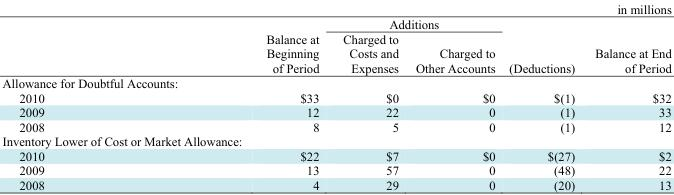table: (1, 1, 670, 191)
table column: (154, 1, 330, 191), (1, 1, 154, 191), (406, 1, 501, 191), (584, 1, 670, 191), (501, 1, 584, 191), (330, 1, 406, 191)
table column header: (1, 1, 670, 75)
table projected row header: (1, 75, 670, 90), (1, 133, 670, 148)
table row: (1, 31, 670, 75), (1, 1, 670, 31), (1, 75, 670, 90), (1, 104, 670, 119), (1, 133, 670, 148), (1, 162, 670, 177), (1, 90, 670, 104), (1, 119, 670, 133), (1, 148, 670, 162), (1, 177, 670, 191)
table spanning cell: (154, 1, 330, 75), (584, 1, 670, 75), (501, 1, 584, 75), (330, 1, 501, 31)
